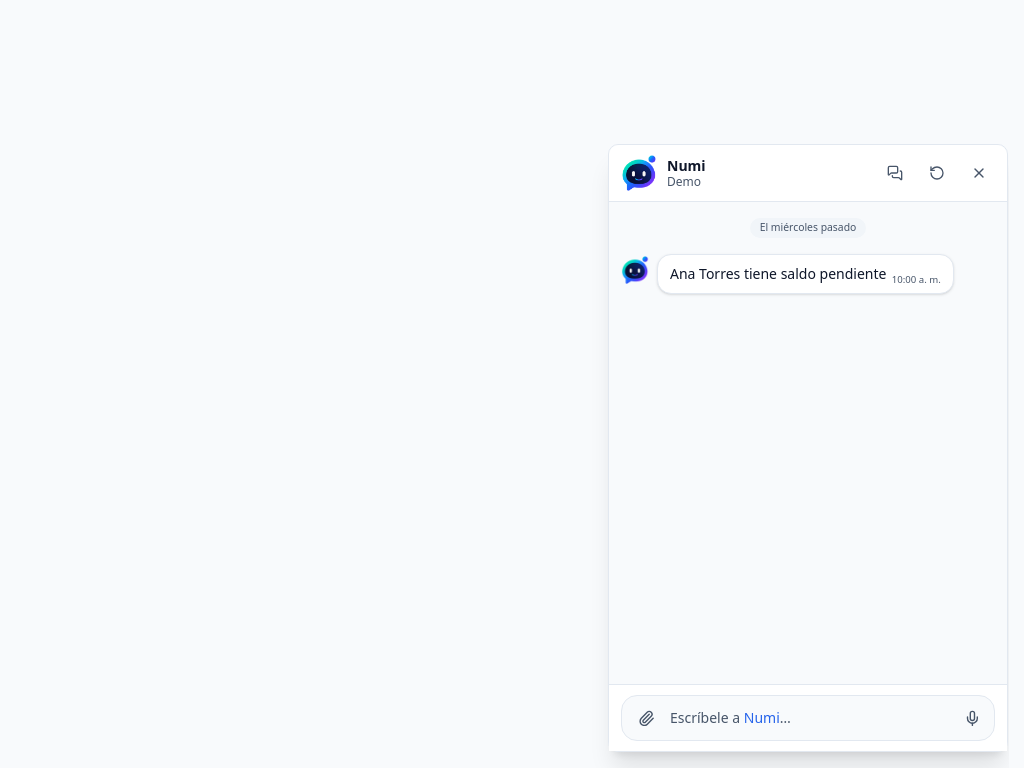
la selección se quita, y se quita sola al actuar
Press the mouse on the text "Ana Torres tiene saldo pendiente" at x=778, y=273, box [670,264,886,283]
Wait 600 ms
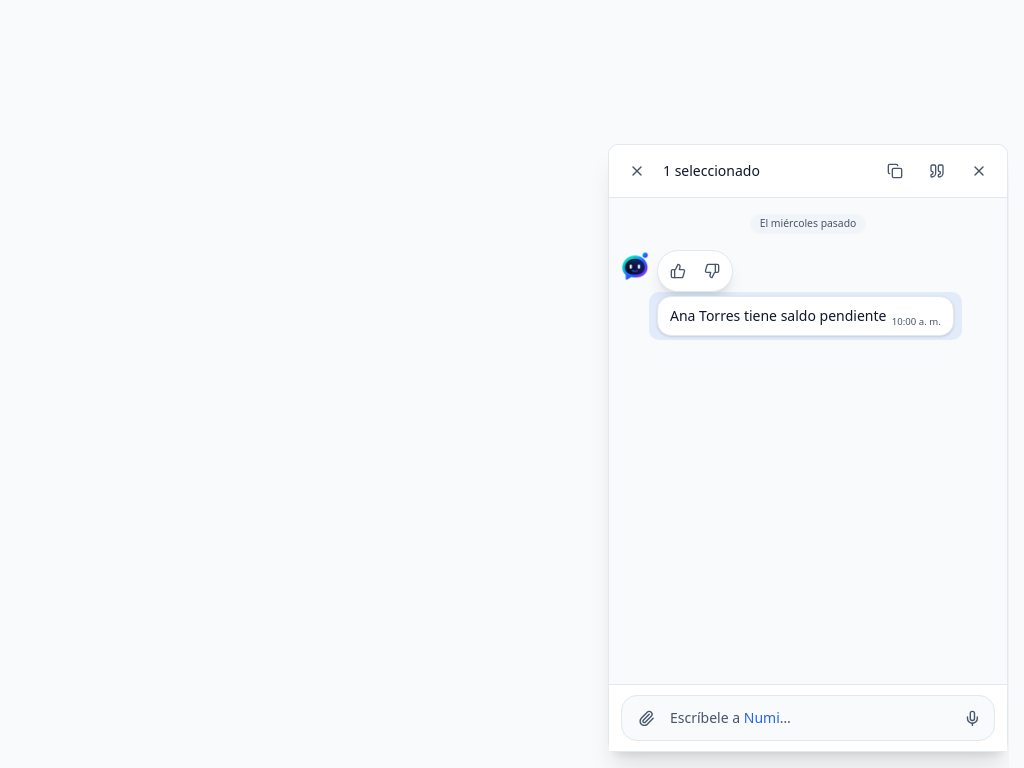
Click the button named "Quitar la selección" at x=637, y=171, box [621,155,653,187]
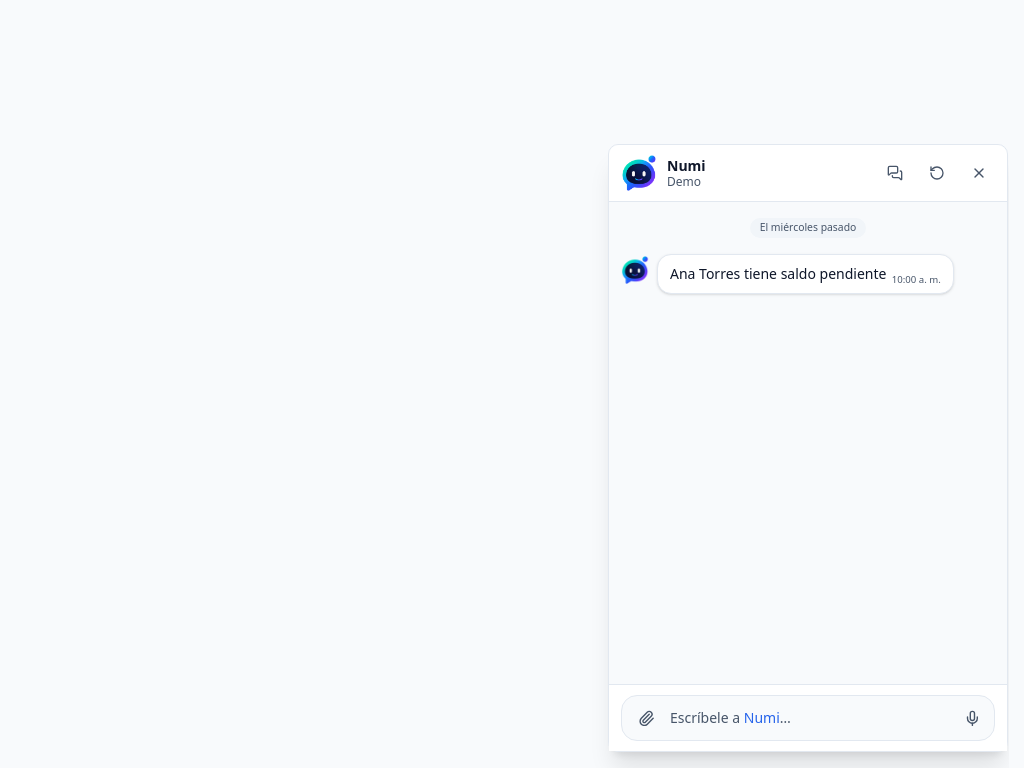
Now the text "1 seleccionado" is gone
Now the button named "Ver mis conversaciones" is shown, box [879,157,911,189]
